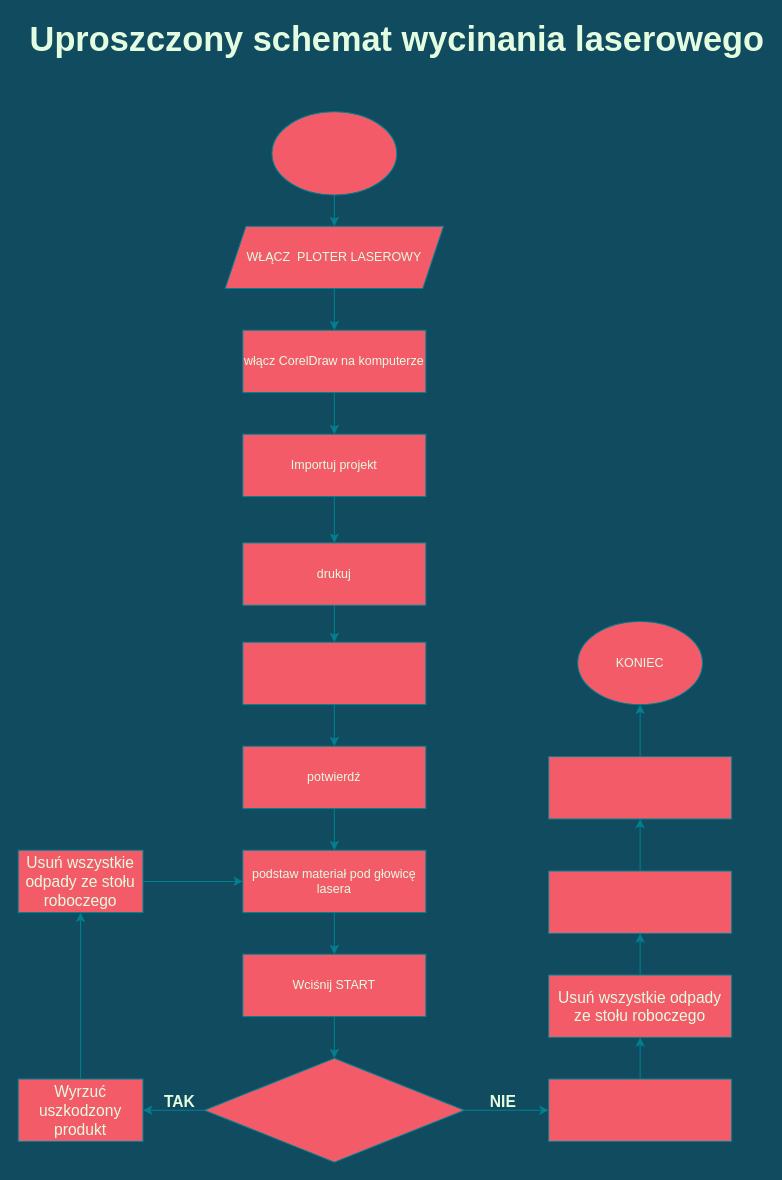
The diagram is 782 pixels wide and 1180 high, and some of its shapes have lost their labels. Here are the shapes that lost their labels. From the top down, the box of each, then its label:
(271, 111, 397, 195): START
(242, 641, 426, 705): wybierz parametry do danego typu materiału
(548, 756, 732, 819): Wyłącz ploter laserowy
(548, 870, 732, 933): Usuń wszystkie pozostałości po cięciu z produktu
(203, 1057, 464, 1162): Czy materiał jest przypalony lub niedocięty?
(548, 1078, 732, 1141): Wyciągnij produkt
